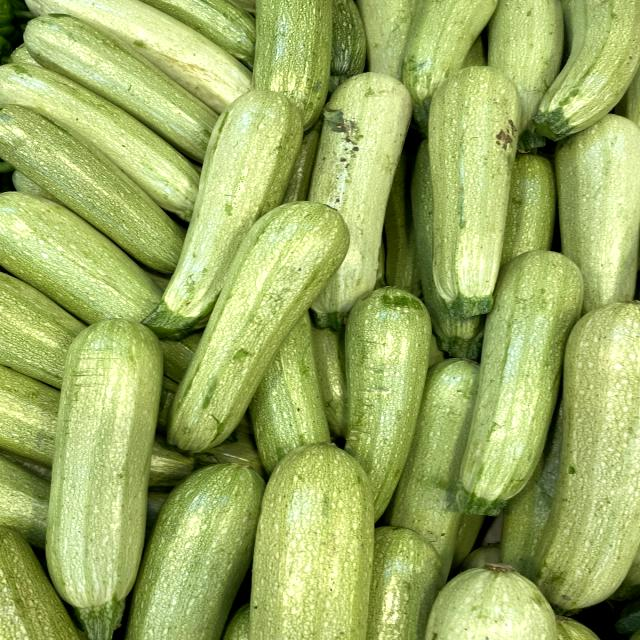zucchini: (161, 195, 359, 461), (138, 85, 318, 346), (34, 306, 182, 613), (440, 244, 604, 519), (416, 56, 535, 322)
